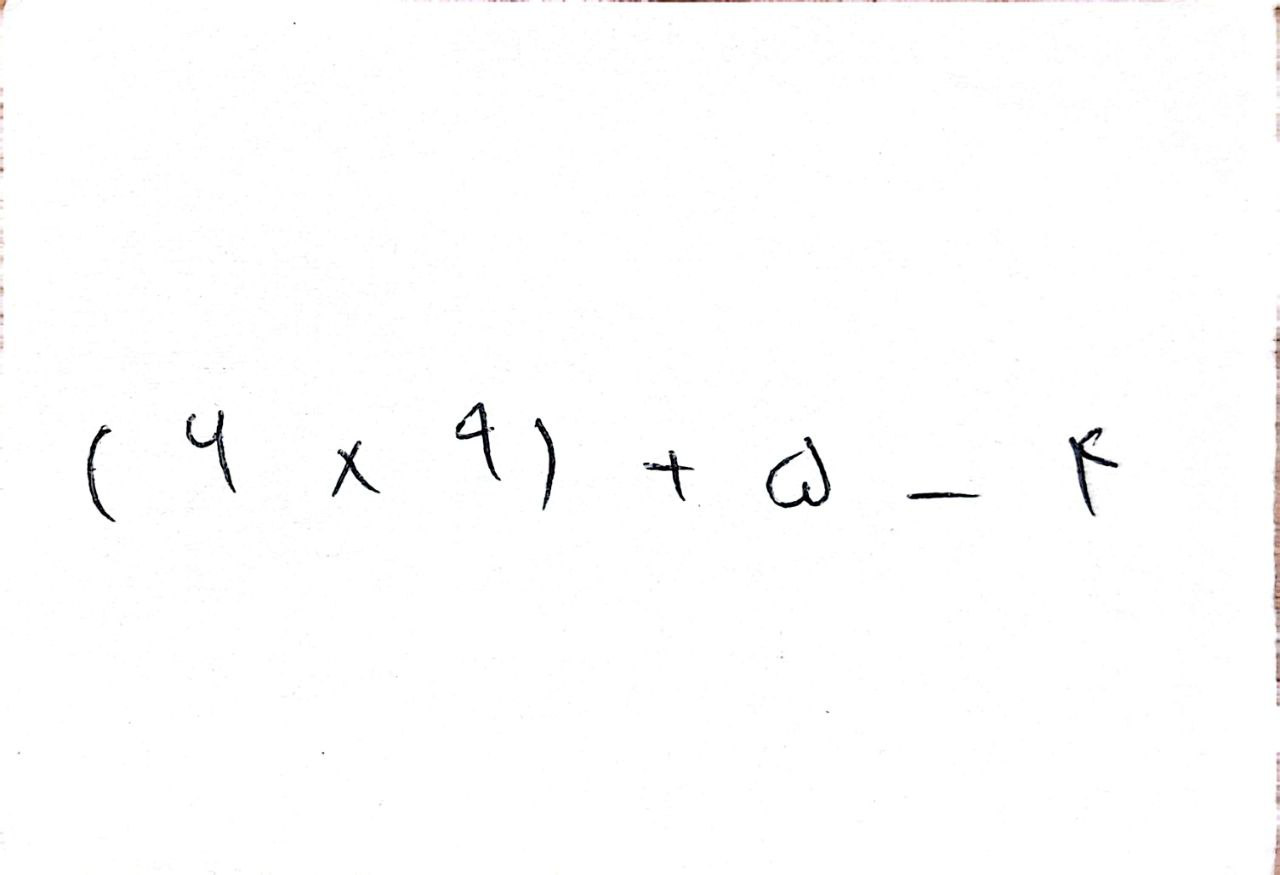character: (1068, 421, 1121, 522), (763, 434, 831, 510), (185, 407, 239, 497), (452, 396, 505, 485), (85, 421, 121, 524), (328, 437, 381, 502), (639, 448, 698, 502), (533, 417, 560, 514), (905, 488, 981, 505)
